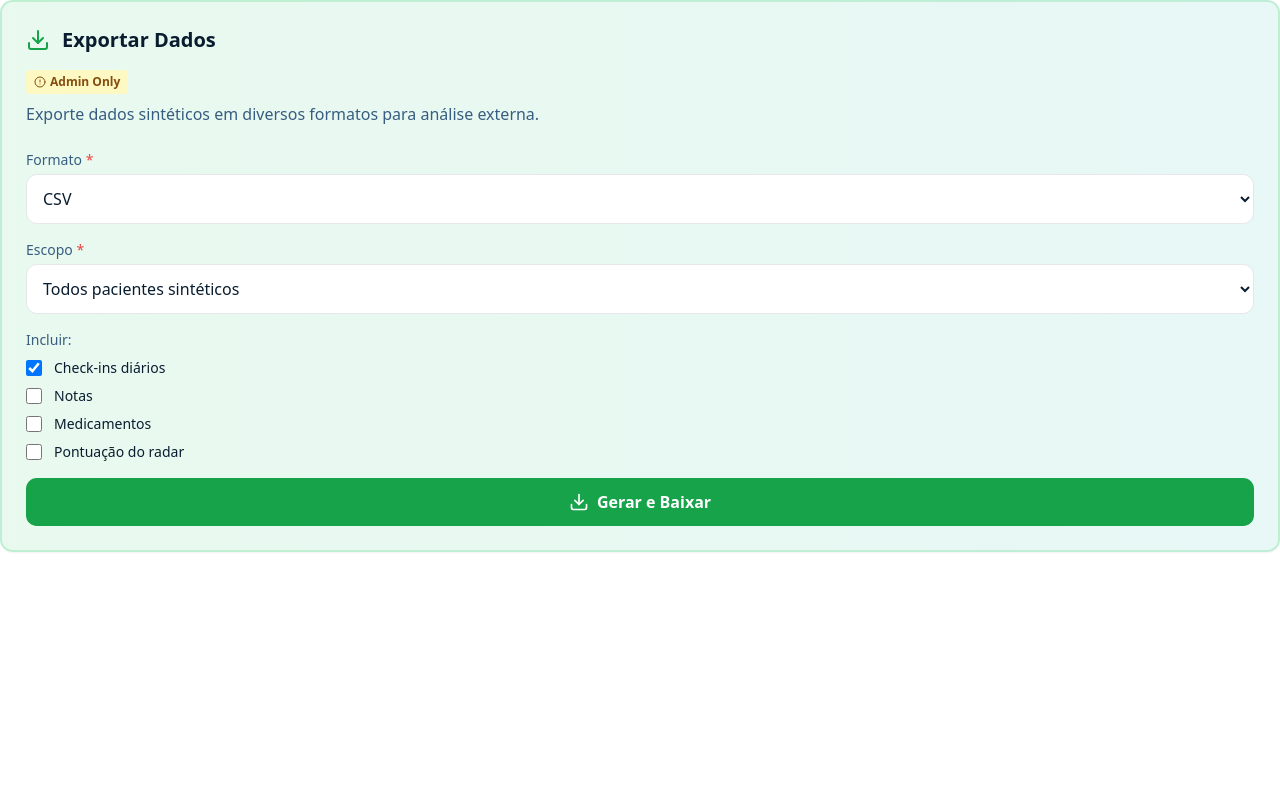
ExportData › should handle API error gracefully
Click the button "Gerar e Baixar": [640, 502] box [26, 478, 1254, 526]
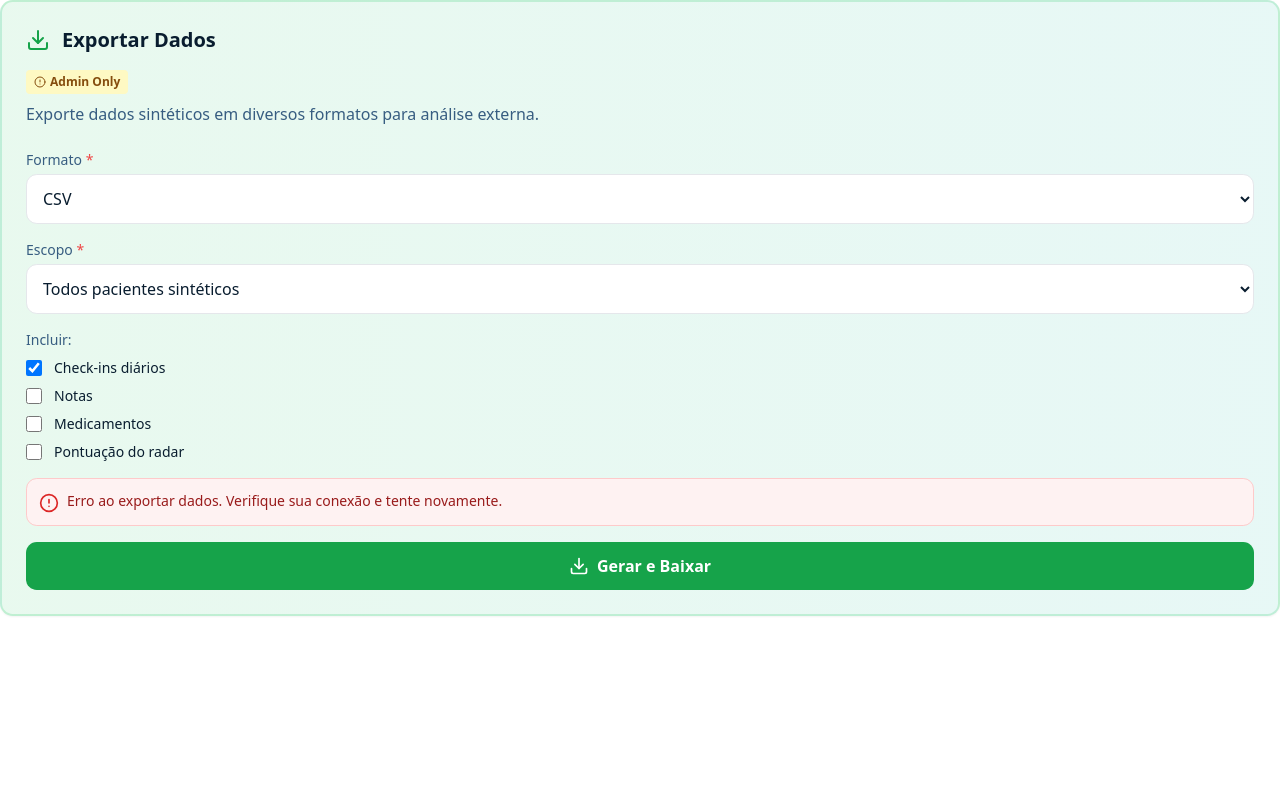
Expected: the text "Erro ao exportar dados. Verifique sua conexão e tente novamente." is shown, [67, 491, 502, 511]
